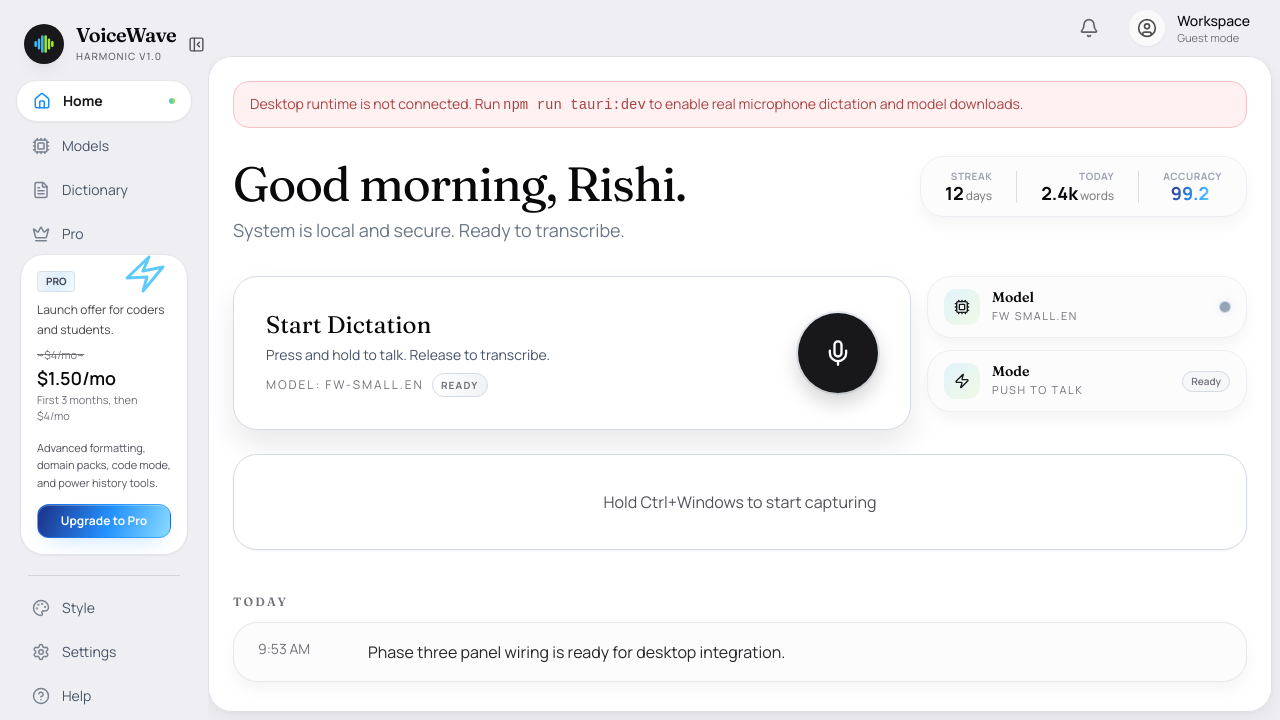
it: App navigation and phase three panels › opens style and help as separate popups
The image size is (1280, 720).
What coordinates should you click on to do the following:
click the button "Style"
I would click on:
 (104, 608)
Its box is [16, 588, 192, 628].
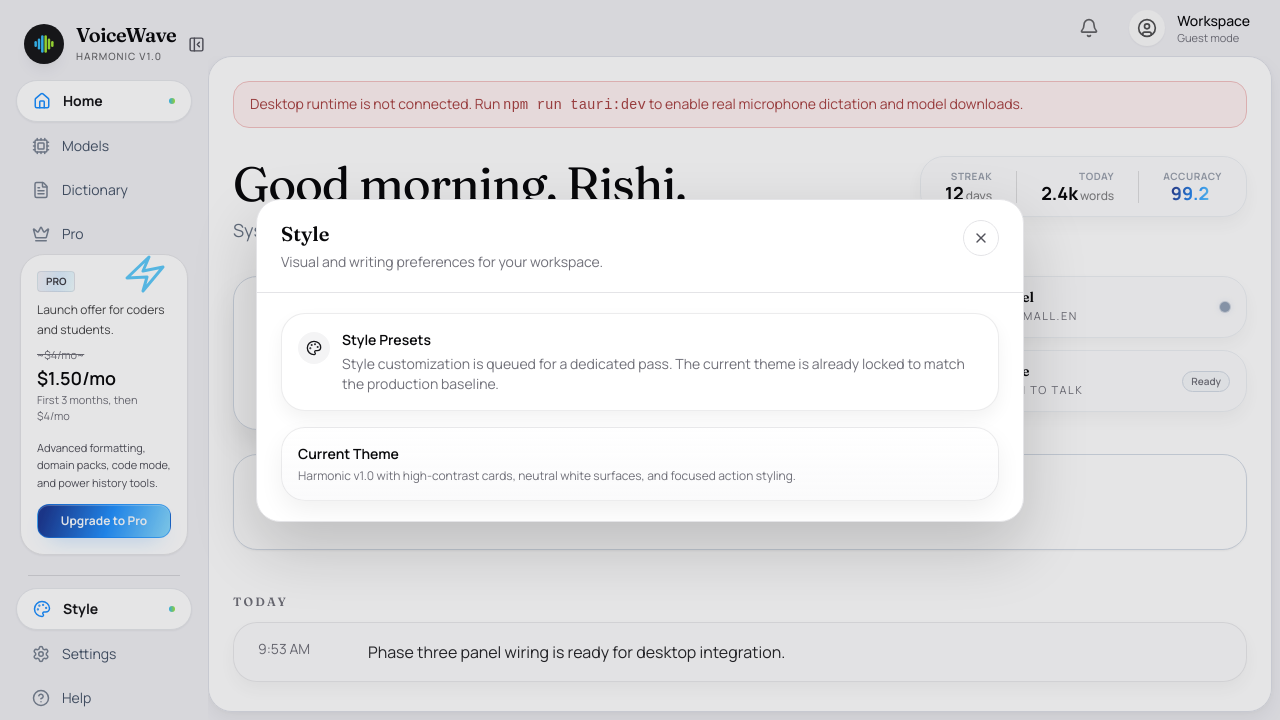
Expected: the dialog "Style" is shown, [256, 198, 1024, 522]
What coordinates should you click on to do the following:
click the button named "Close Style"
I would click on:
 (981, 238)
Its box is [963, 220, 999, 256].
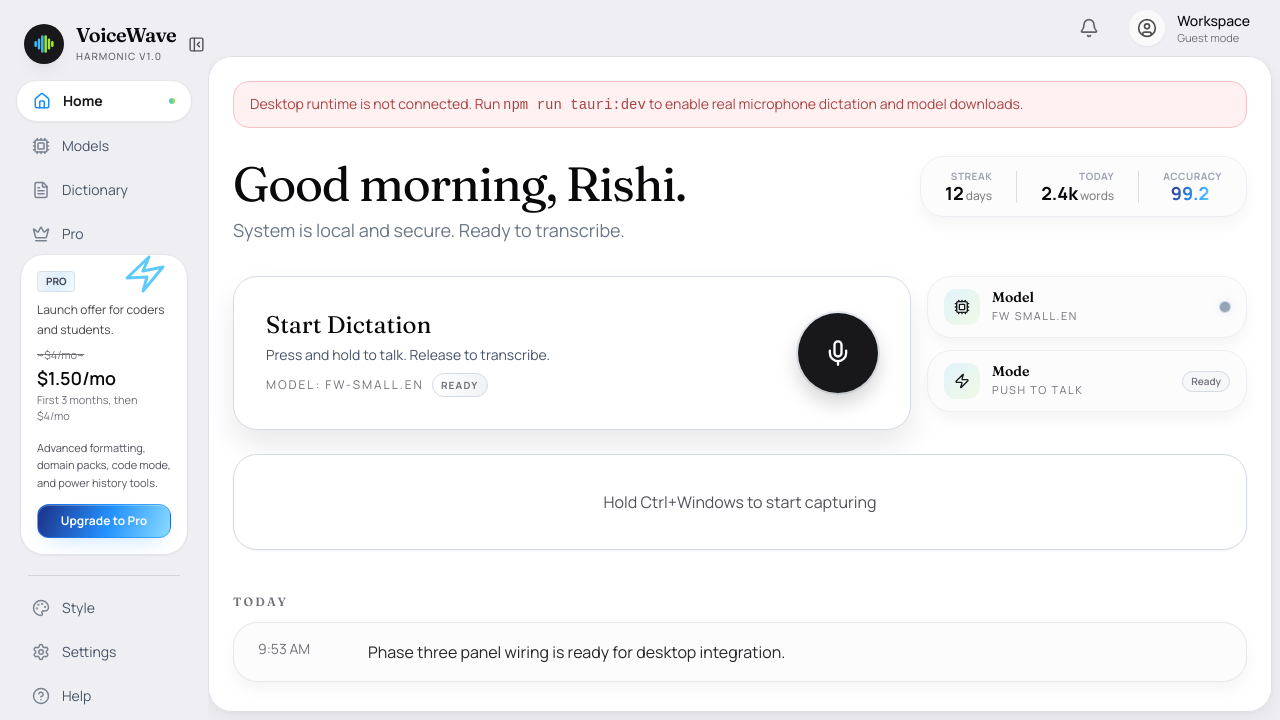
What coordinates should you click on to do the following:
click the button "Help"
I would click on:
 (104, 696)
Its box is [16, 676, 192, 716].
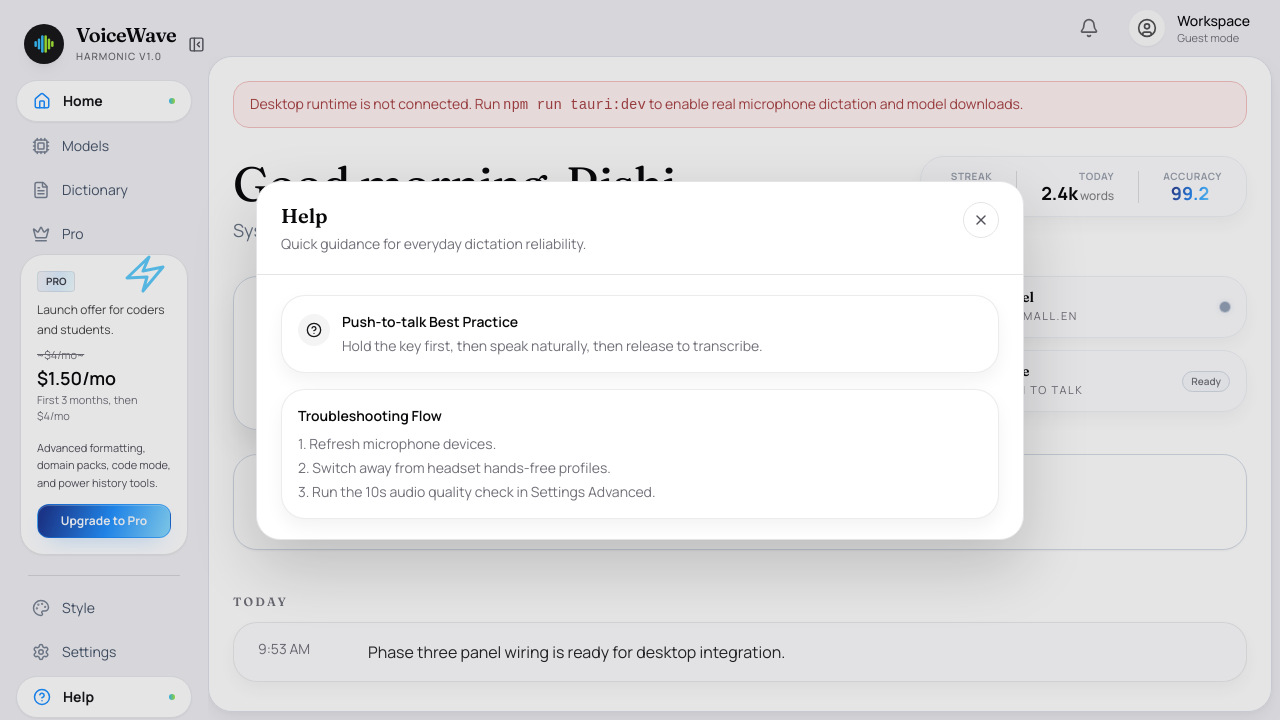
Expected: the dialog "Help" is shown, [256, 180, 1024, 540]
